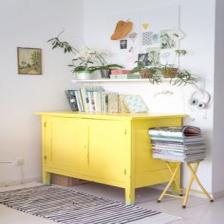yellow: (36, 113, 187, 205)
